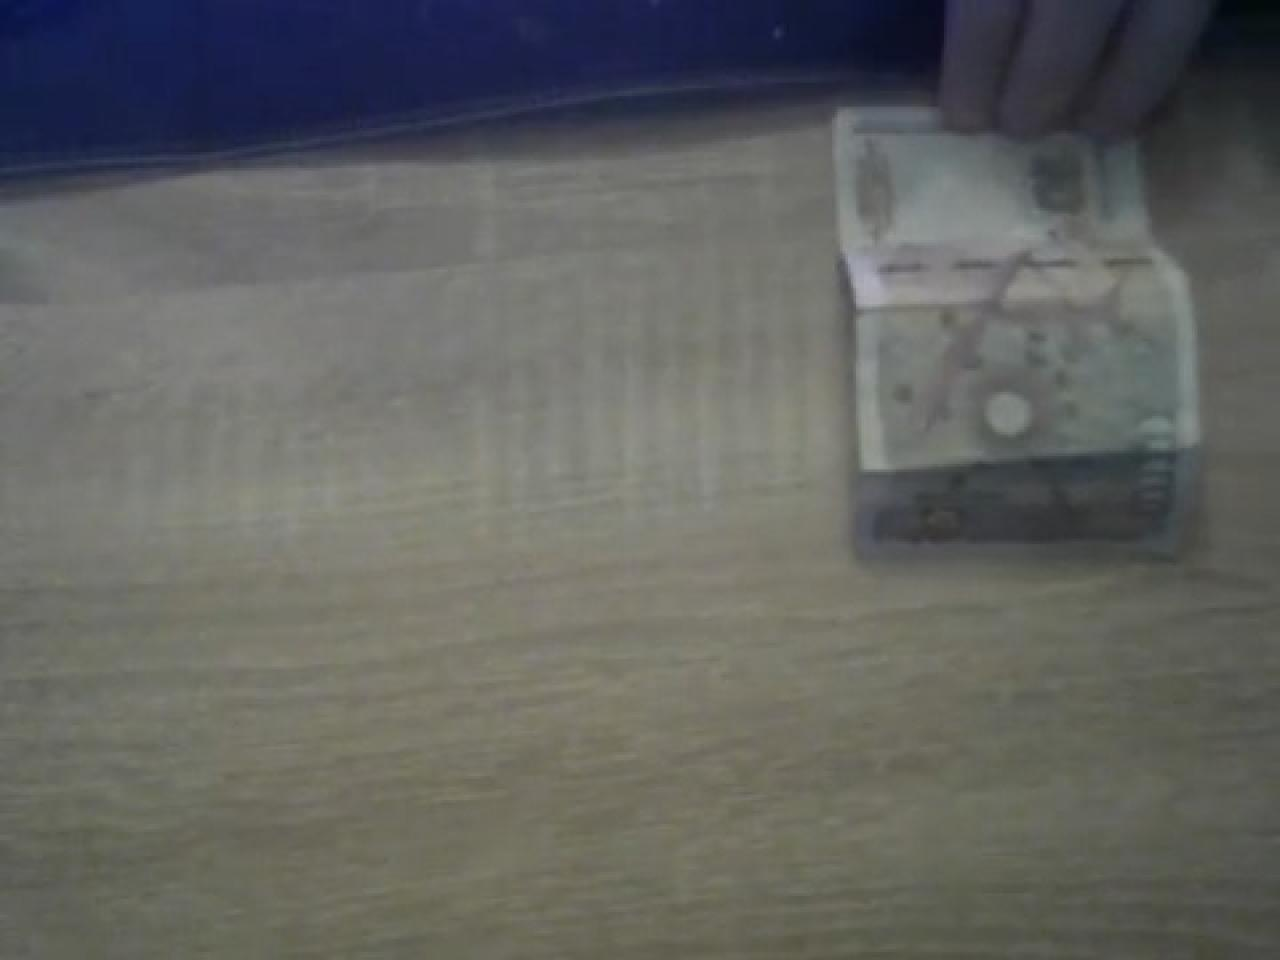10leva: (829, 107, 1205, 558)
